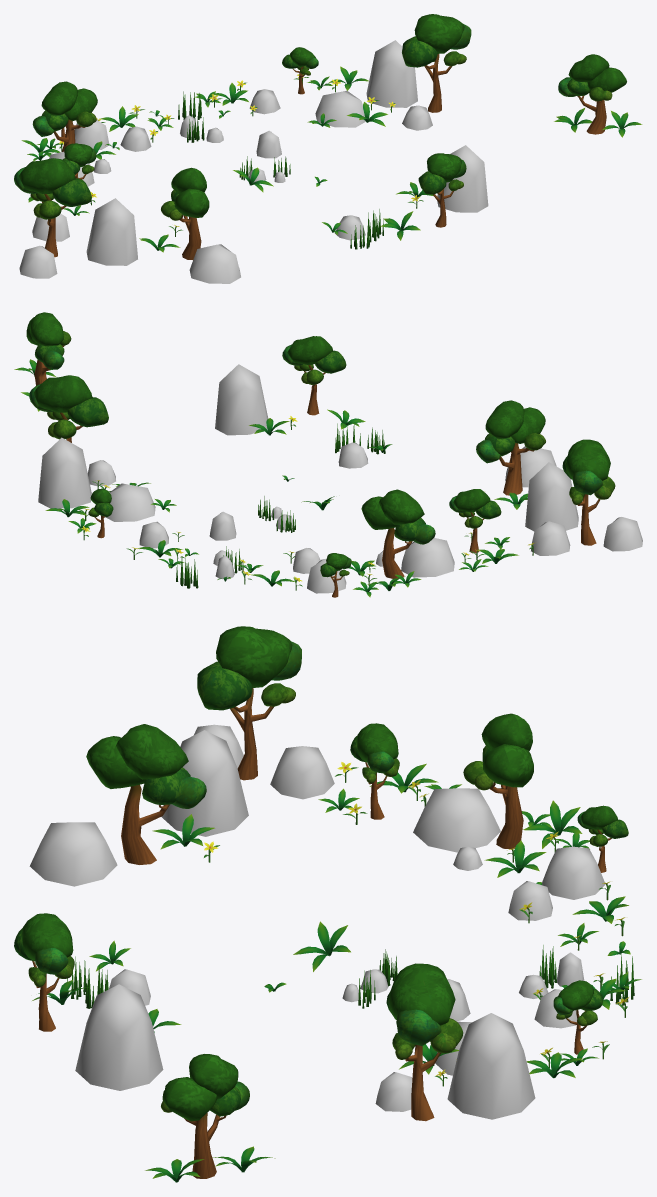
File: Asset_Plants_Ground 1.fbx
3 views of the same model, one above another, from view 1: azimuth 30°, elevation 25°; view 2: azimuth 150°, elevation 25°; view 3: azimuth 270°, elevation 25° (orthographic). The views are drawn at different scales.
Parts seen in each view (by area): view 1: polySurface581; view 2: polySurface581; view 3: polySurface581.
Boxes of the visible parts, x1,y1,x2,y2 form: polySurface581: (14,14,642,283); polySurface581: (14,312,642,597); polySurface581: (14,626,641,1182).
Bounding box in the file's own units: 9947 × 1754 × 5768.
